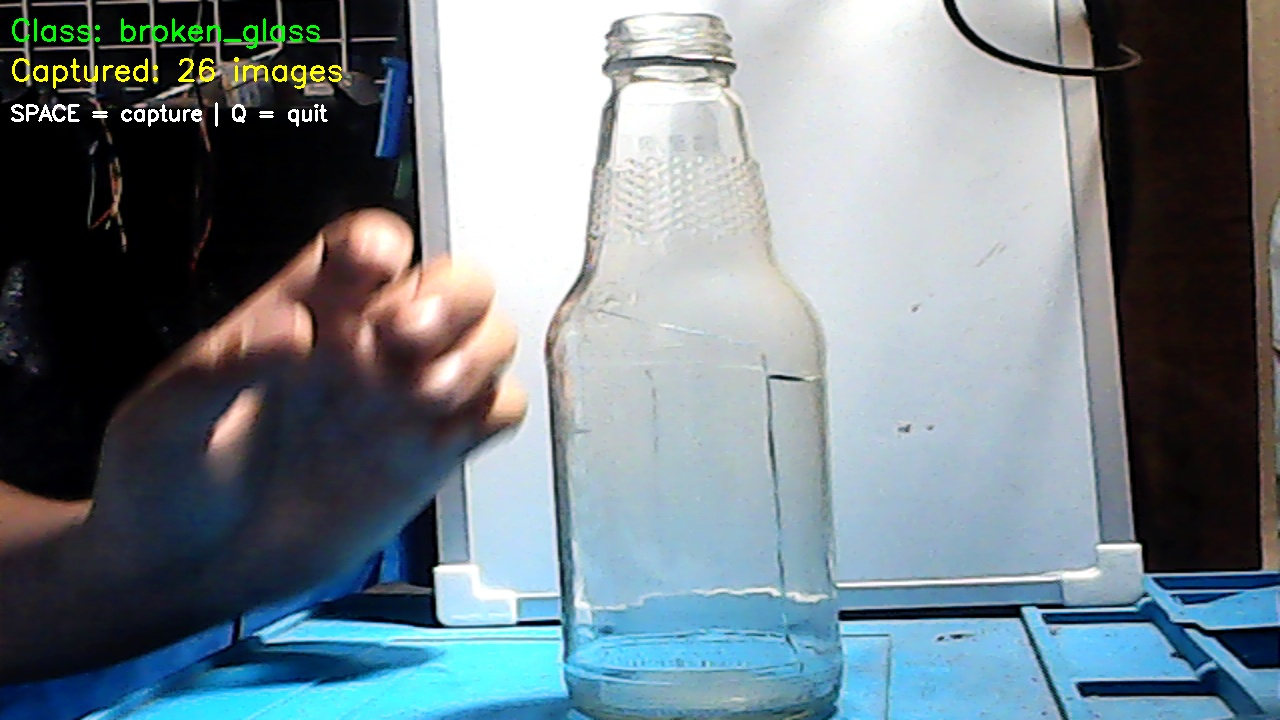broken_glass: (550, 17, 849, 716)
